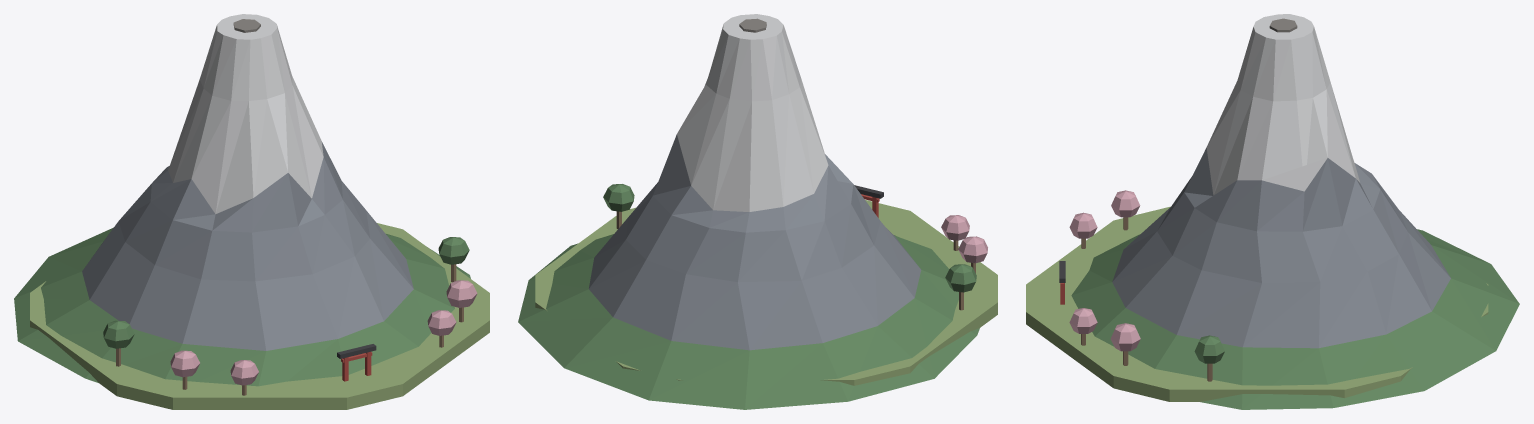
File: mt-fuji.glb
3 renders of one model, left to right at view 1: azimuth 30°, elevation 25°; view 2: azimuth 150°, elevation 25°; view 3: azimuth 270°, elevation 25°, orthographic.
Visible parts, largest first — view 1: LOD0; view 2: LOD0; view 3: LOD0.
Part boxes in pixels (x1=…): LOD0: x1=14, y1=14, x2=489, y2=409; LOD0: x1=518, y1=14, x2=997, y2=409; LOD0: x1=1026, y1=14, x2=1519, y2=409.
Size of what is drawn, in the model's own units: 1.8 by 1.2 by 1.88.
